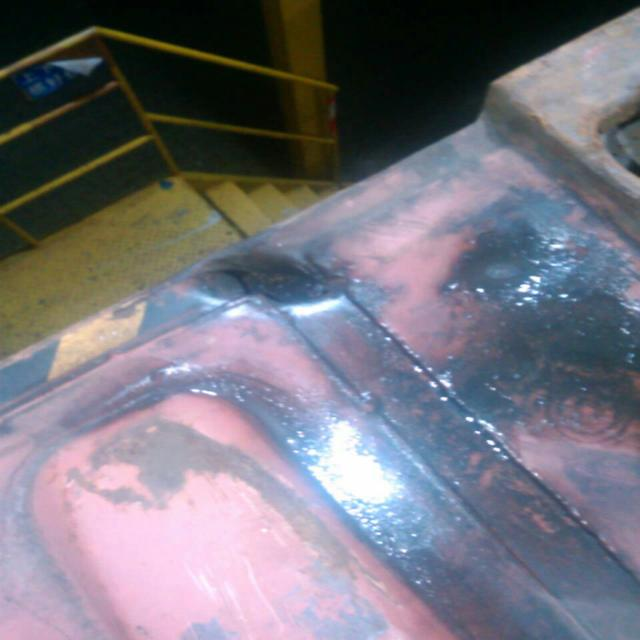hole: (175, 244, 373, 322)
